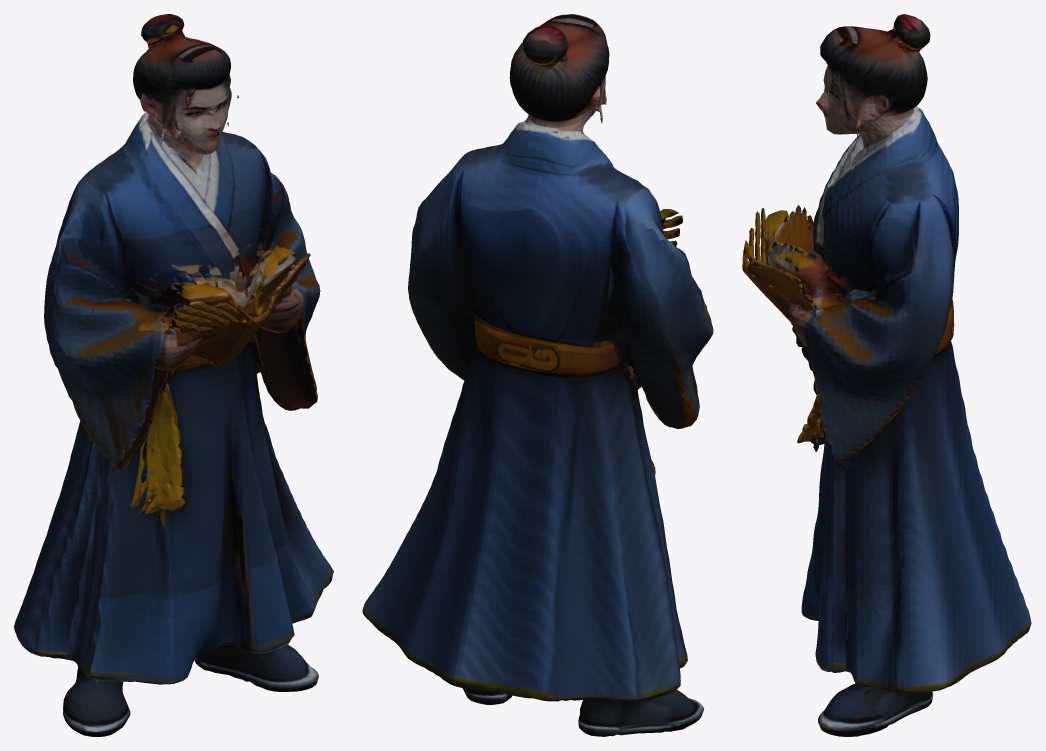
The model's file is body.glb.
3 renders of one model, left to right at view 1: azimuth 30°, elevation 25°; view 2: azimuth 150°, elevation 25°; view 3: azimuth 270°, elevation 25°, orthographic. The views are drawn at different scales.
Parts seen in each view (by area): view 1: geometry_0; view 2: geometry_0; view 3: geometry_0.
Boxes of the visible parts, x1,y1,x2,y2 form: geometry_0: [14, 14, 333, 736]; geometry_0: [362, 14, 713, 736]; geometry_0: [742, 14, 1031, 736].
Size of the model in its own units: 0.9246 by 1.96 by 0.7712.
Materials: 1 (1 with a texture image).
